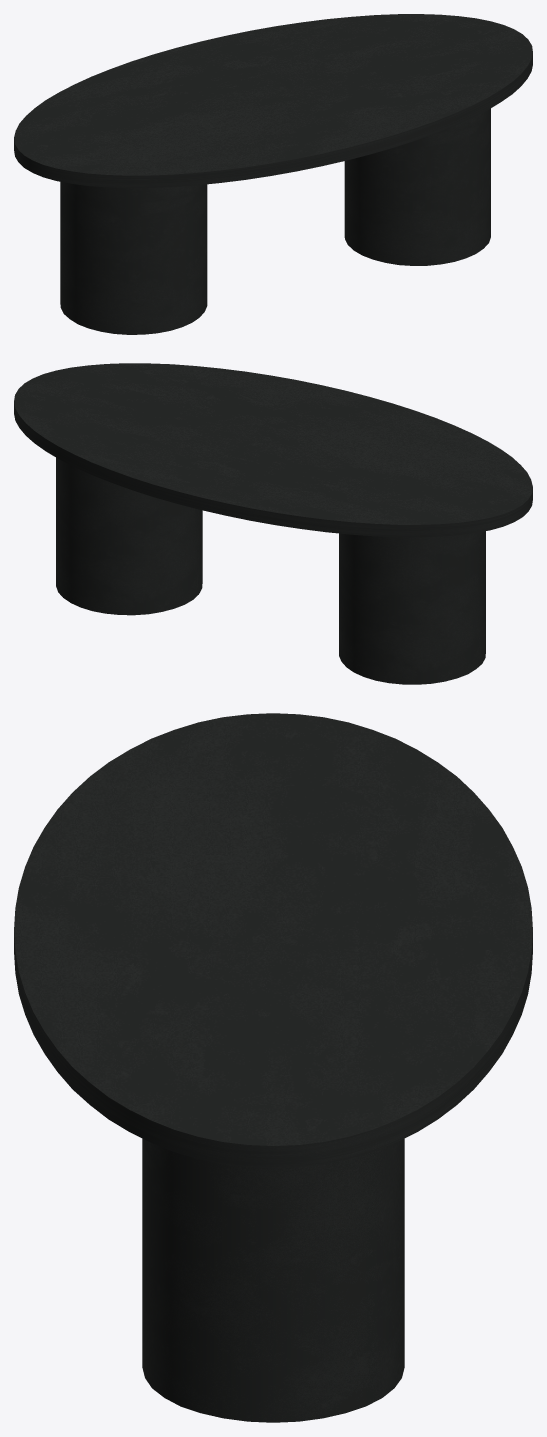
The model's file is darknight_ellips_standard_stream.glb.
3 views of the same model, one above another, from view 1: azimuth 30°, elevation 25°; view 2: azimuth 150°, elevation 25°; view 3: azimuth 270°, elevation 25° (orthographic). The views are drawn at different scales.
Visible parts, largest first — view 1: darknight_ellipsstandard_stream; view 2: darknight_ellipsstandard_stream; view 3: darknight_ellipsstandard_stream.
Boxes of the visible parts, box(x1,y1,x2,y2) form: darknight_ellipsstandard_stream: box(14, 14, 532, 334); darknight_ellipsstandard_stream: box(14, 363, 532, 684); darknight_ellipsstandard_stream: box(14, 713, 532, 1422).
Size of the model in its own units: 7.5 by 2.52 by 3.8.
1 material, 1 textured.
